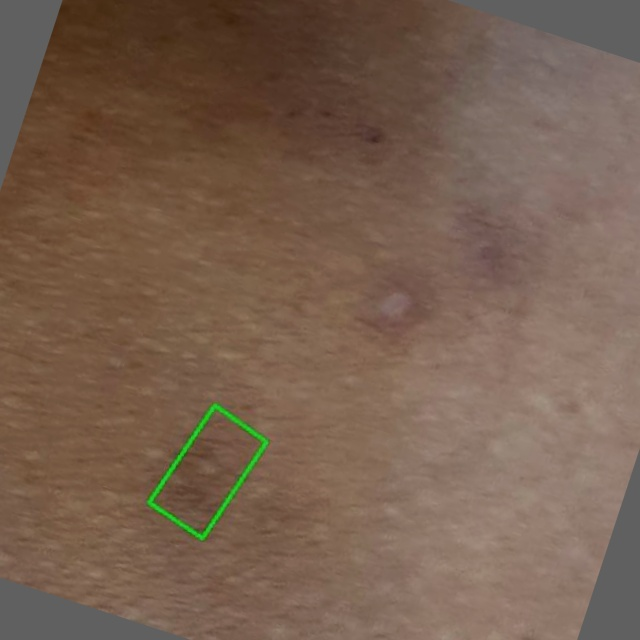Seborrheic Dermatitis: (148, 404, 267, 538)
